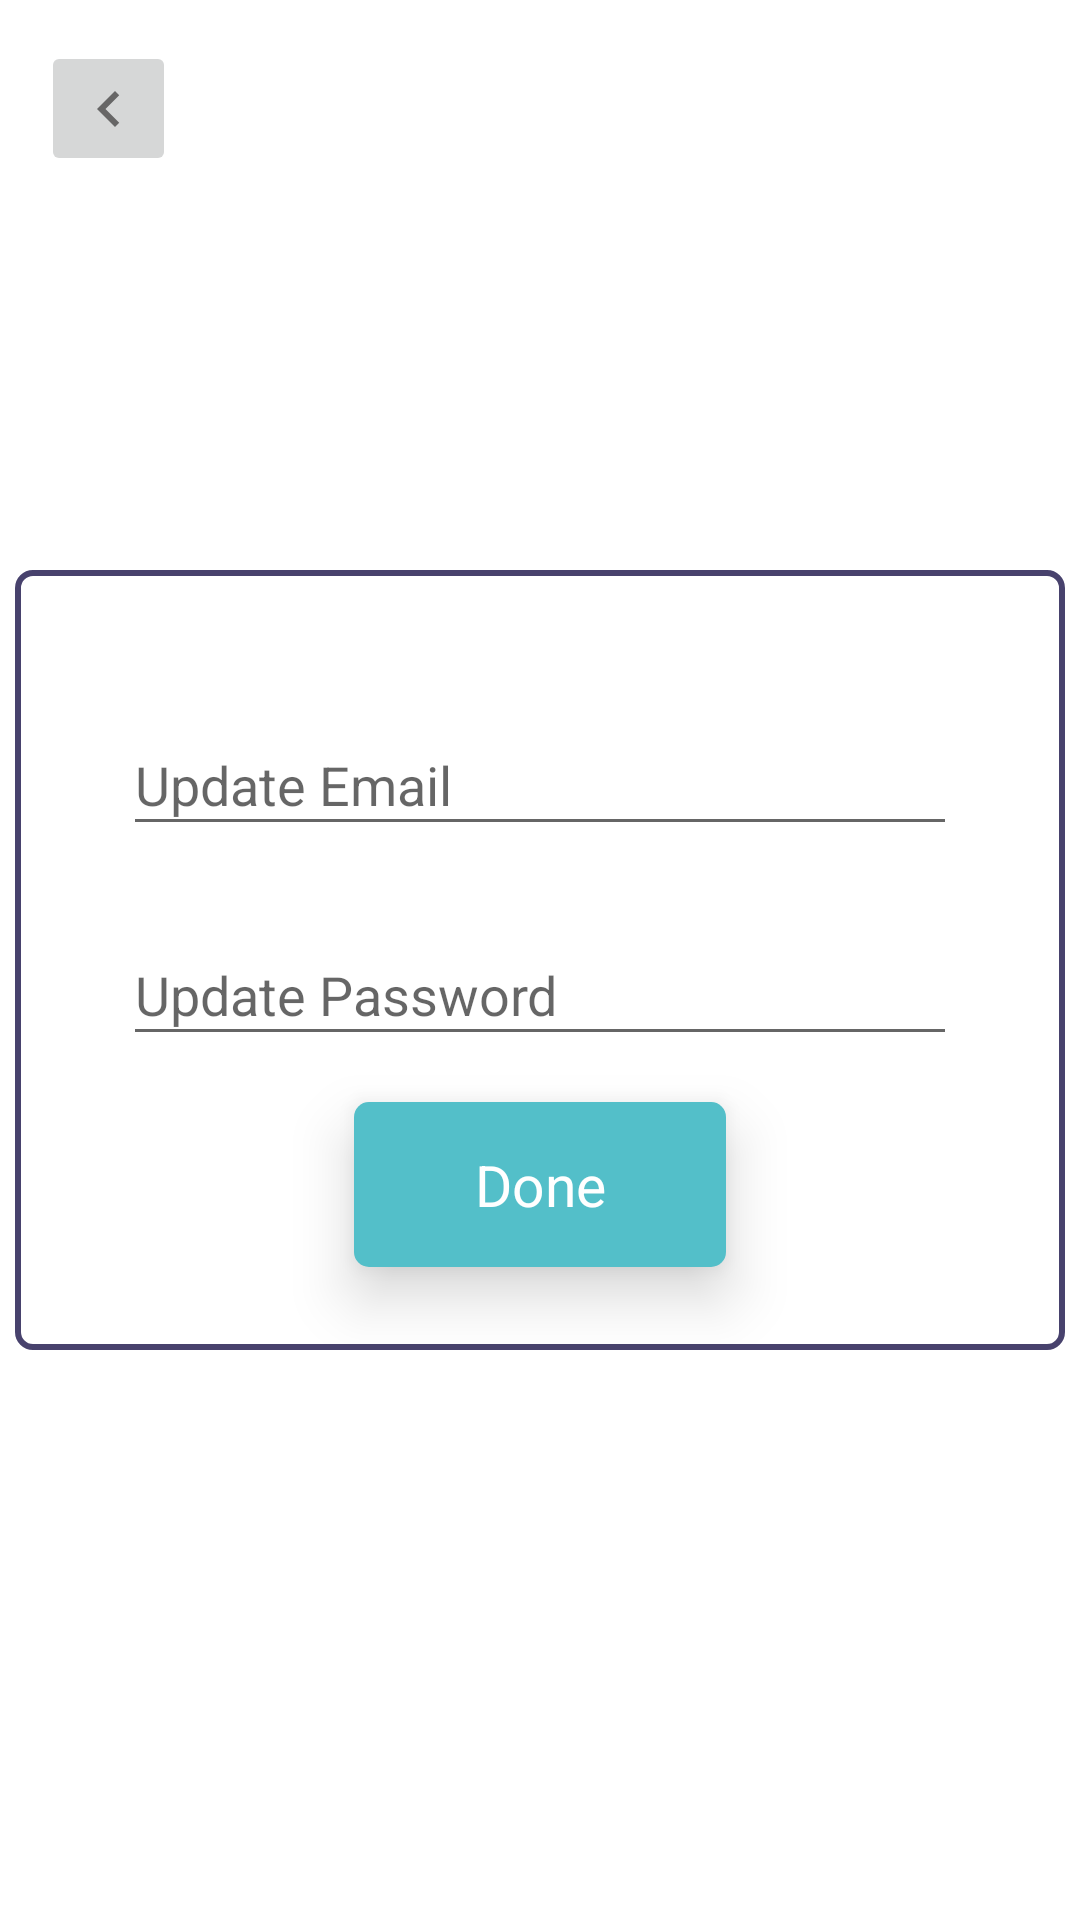

Where icons sit on this 1080px×1920px app screen, as {"left": x1, "top": y1, "right": x2, "bottom": y2}:
chevron left: {"left": 53, "top": 59, "right": 164, "bottom": 158}
